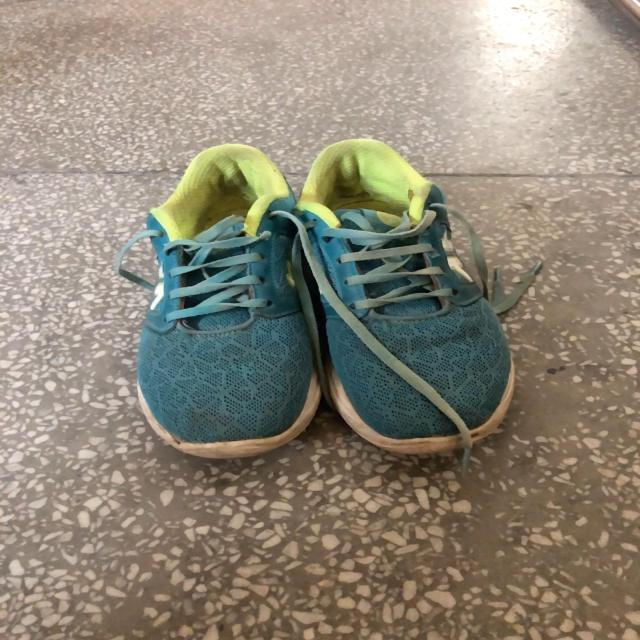shoe: (292, 140, 516, 451), (138, 146, 310, 440)
